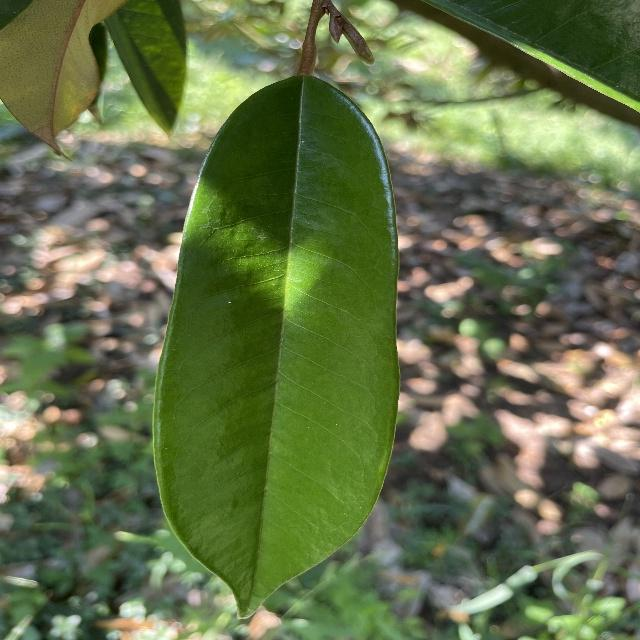No Disease: (142, 67, 409, 628)
